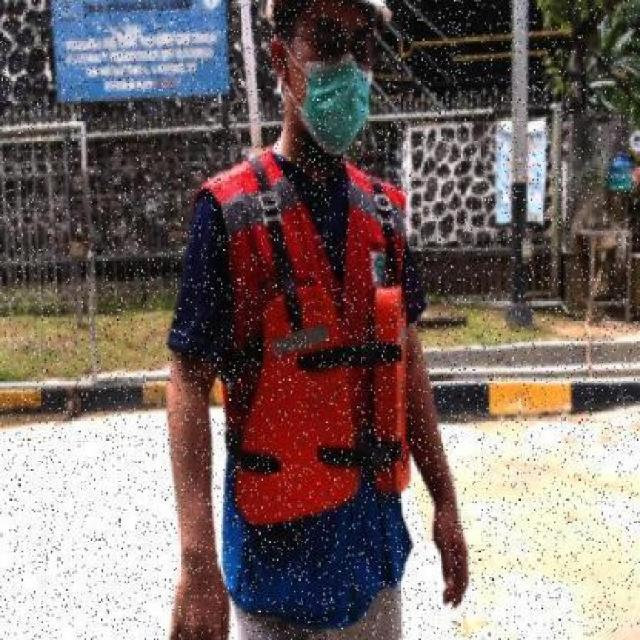Mask: (299, 55, 373, 154)
Vest: (230, 278, 422, 524)
